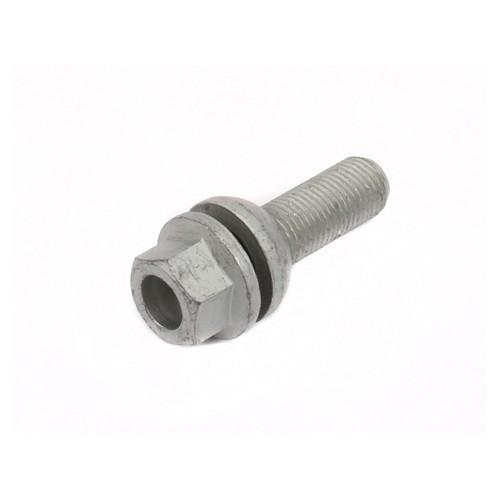Tornillo: (127, 153, 392, 349)
